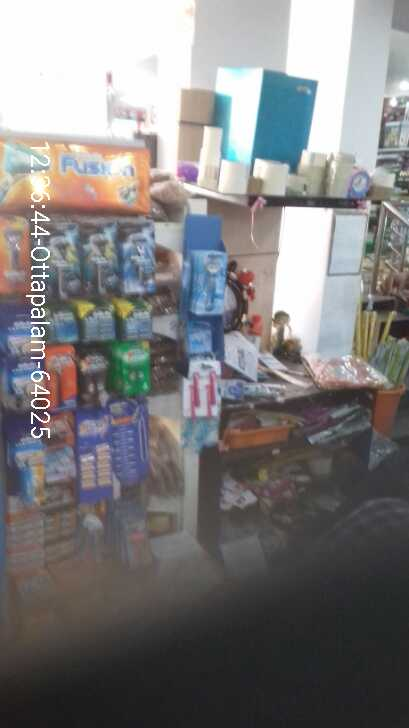reject: (185, 184, 224, 223)
